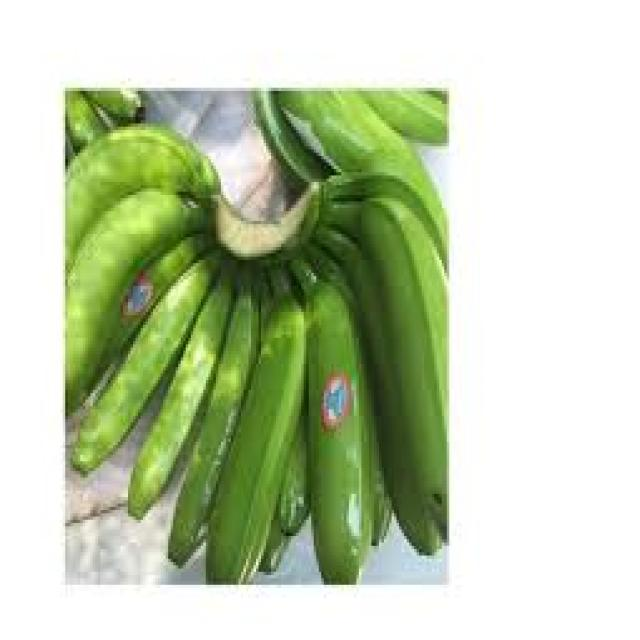banana: (63, 84, 449, 585)
